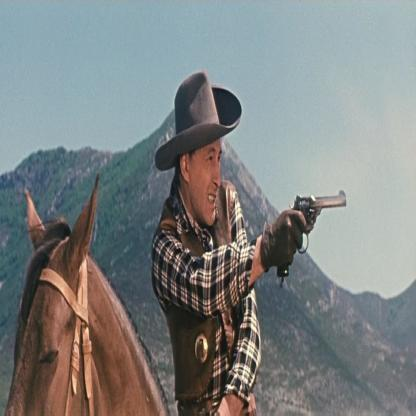gun: (286, 155, 354, 270)
